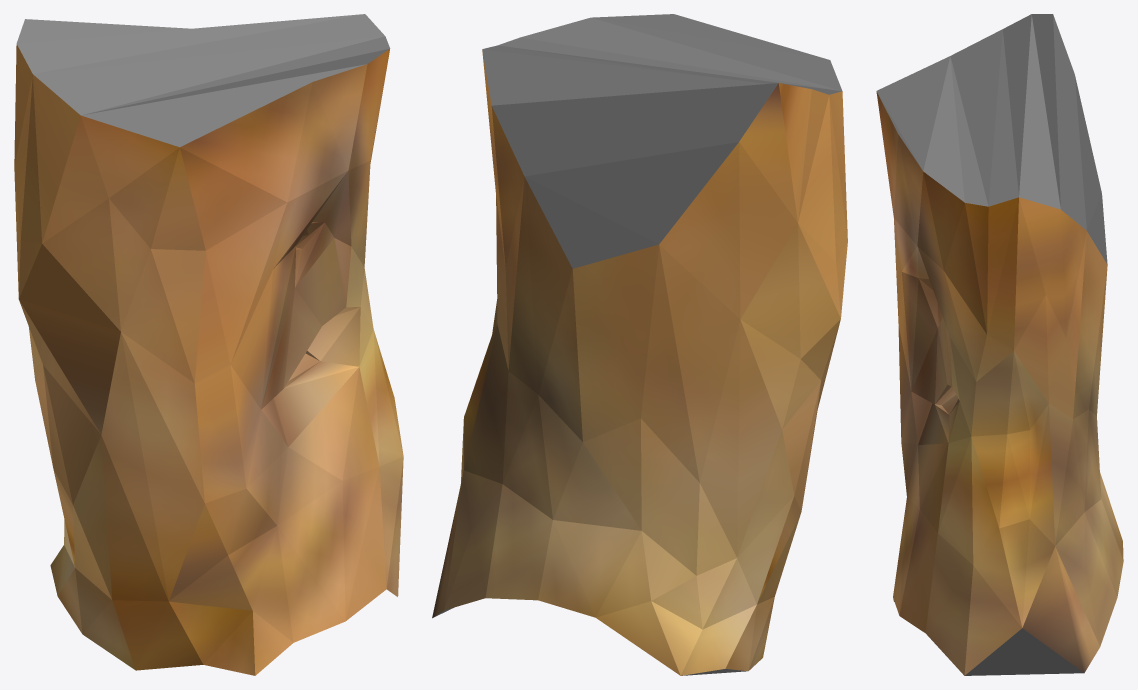
The model's file is ischiopodite5_right_collision.obj.
The picture shows the model from 3 angles, left to right: view 1: azimuth 30°, elevation 25°; view 2: azimuth 150°, elevation 25°; view 3: azimuth 270°, elevation 25°; orthographic projection. The views are drawn at different scales.
Visible parts, largest first — view 1: 5_left_leg_5_left.036; view 2: 5_left_leg_5_left.036; view 3: 5_left_leg_5_left.036.
Part boxes in pixels (x1,y1,x2,y2): 5_left_leg_5_left.036: (14, 14, 403, 675); 5_left_leg_5_left.036: (432, 14, 847, 675); 5_left_leg_5_left.036: (876, 14, 1123, 675).
Bounding box in the file's own units: 0.3434 × 0.5504 × 0.2284.
Materials: 15 (13 with a texture image).
